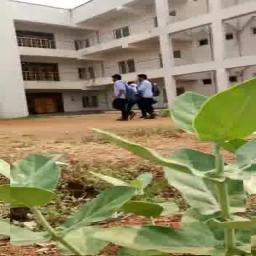Calotropis: (10, 154, 252, 255)
